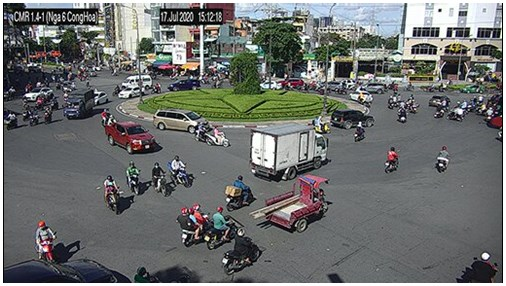xe_ba_gac: (259, 173, 330, 234)
xe_hoi: (105, 121, 157, 155), (152, 109, 210, 133), (332, 109, 375, 130), (23, 87, 54, 101), (168, 79, 201, 90), (348, 91, 373, 103), (278, 77, 306, 87), (118, 87, 143, 98), (361, 83, 385, 93), (93, 91, 107, 106), (321, 81, 344, 90)
xe_may: (221, 228, 261, 275), (206, 207, 245, 249), (175, 203, 212, 245), (223, 176, 255, 212), (34, 220, 55, 263), (104, 173, 119, 216), (169, 155, 189, 187), (204, 127, 231, 150), (152, 162, 169, 197), (126, 161, 142, 194), (100, 107, 119, 131), (193, 122, 213, 143), (435, 145, 450, 172), (386, 146, 399, 175), (313, 114, 331, 134), (446, 106, 463, 122), (5, 111, 18, 131), (354, 121, 365, 144), (29, 107, 40, 128), (397, 104, 407, 122), (43, 105, 52, 125), (407, 97, 417, 114), (22, 105, 31, 123), (209, 78, 223, 89), (434, 102, 443, 118), (150, 82, 162, 94), (112, 85, 121, 96), (359, 92, 366, 106), (486, 105, 492, 121), (388, 95, 394, 110)
xe_tai: (250, 123, 329, 182), (250, 122, 327, 181), (64, 88, 92, 119)
